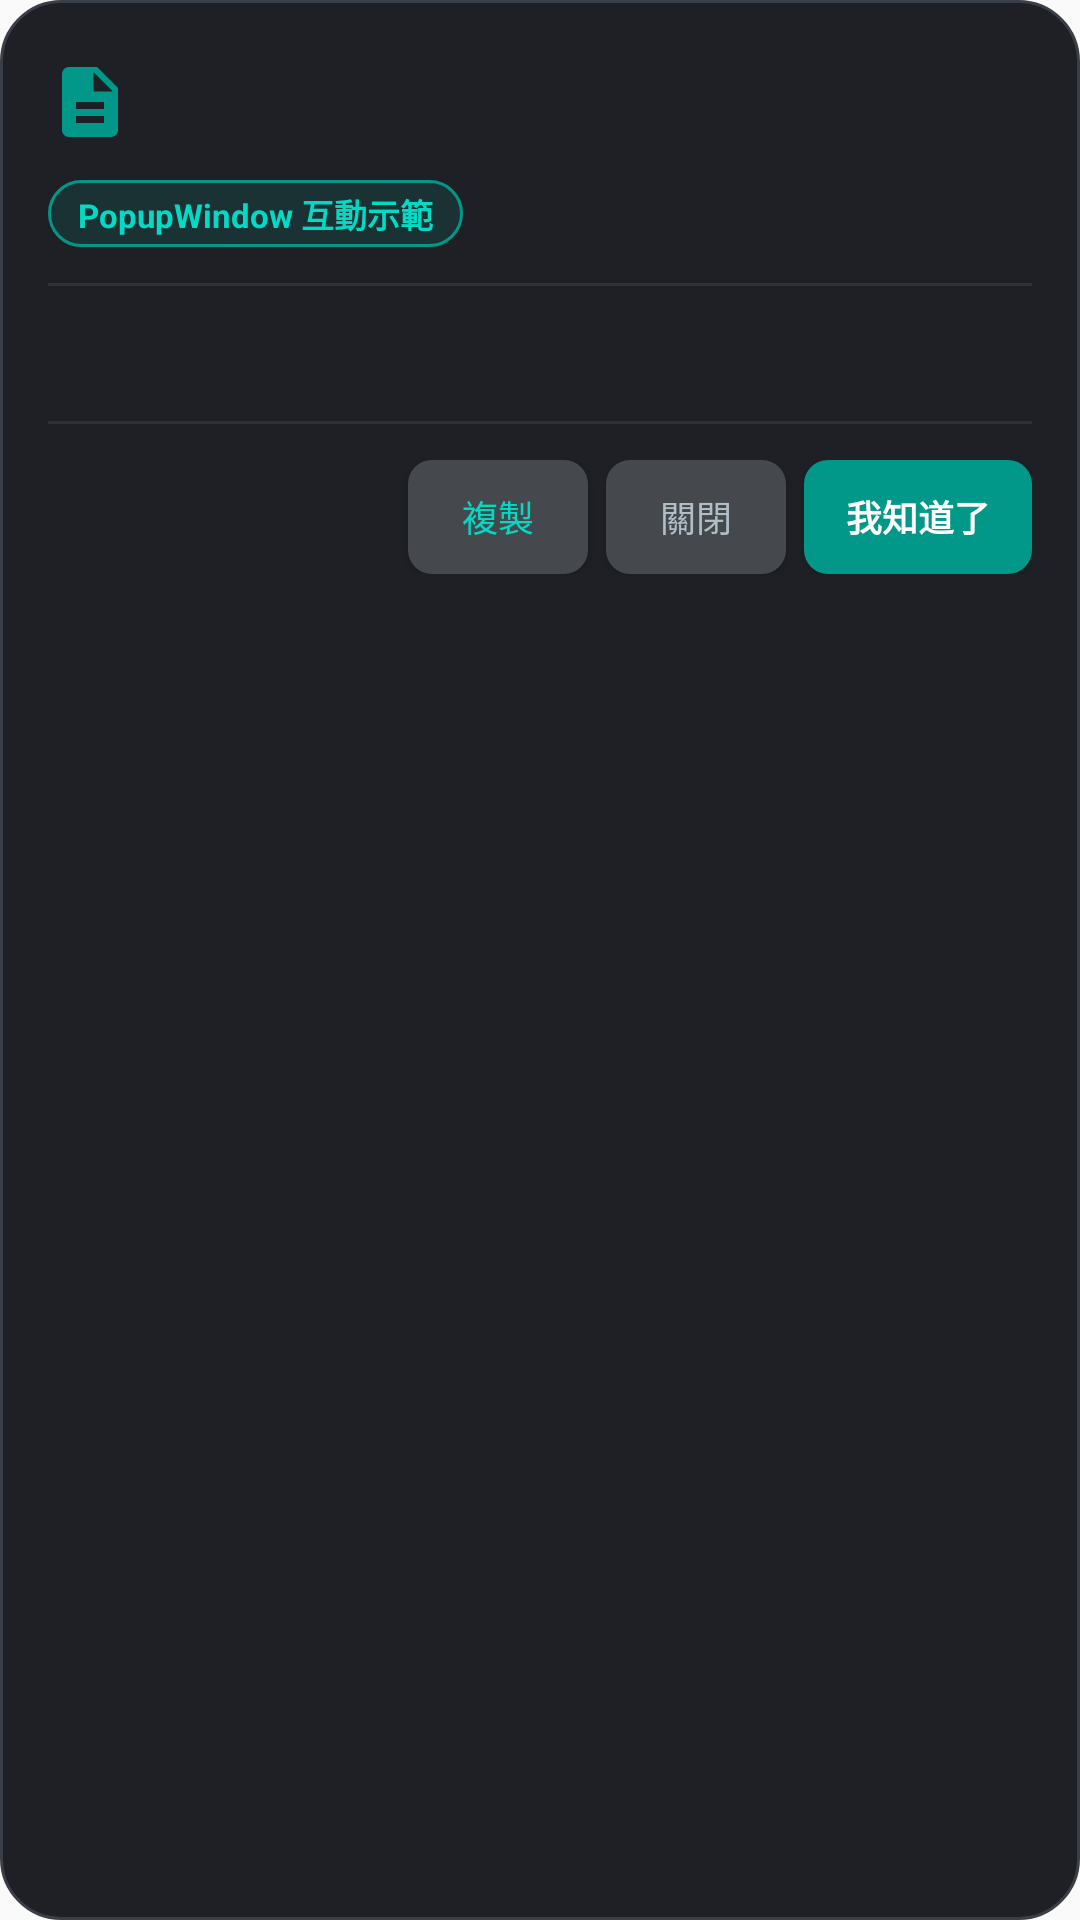

Named icons in this screenshot (1080*1920) and their bounding boxes, box(x1, y1, x2, y2):
彈窗圖示: box(62, 67, 118, 137)
